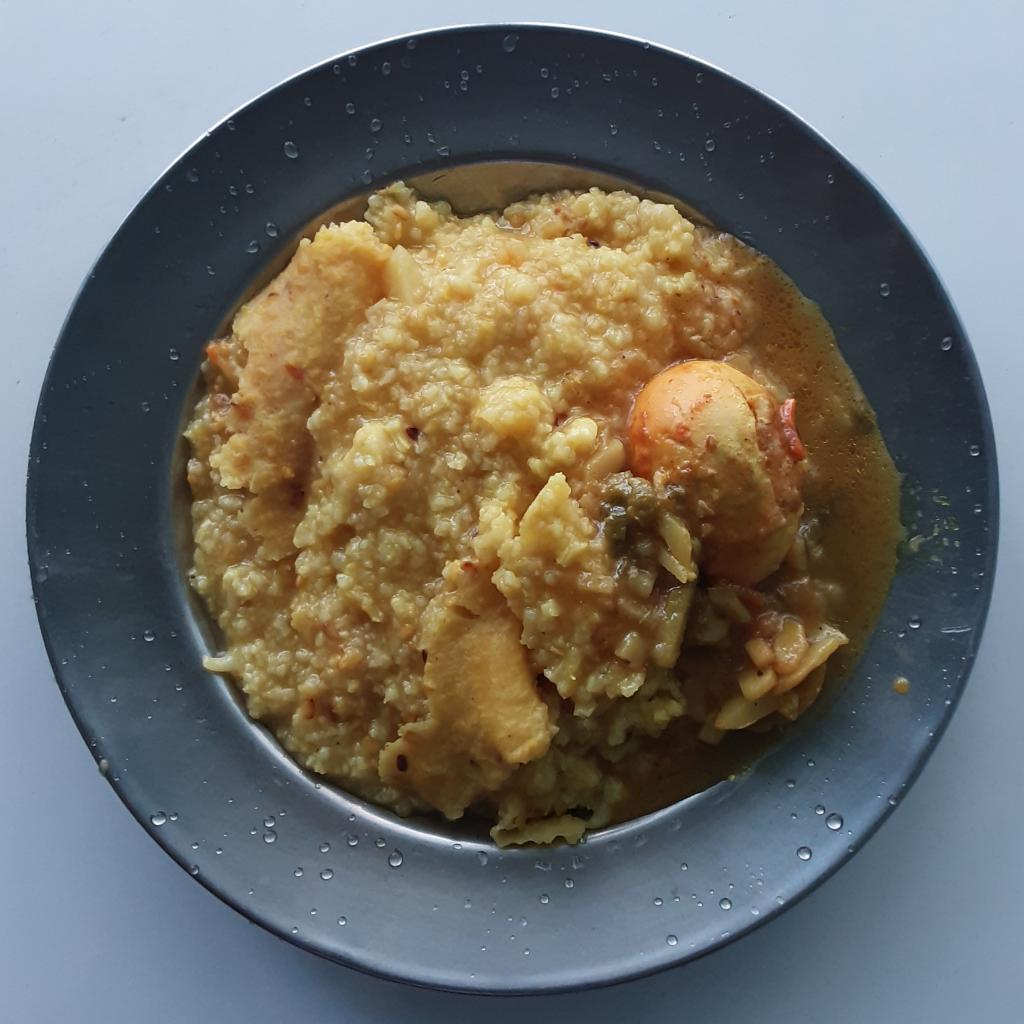egg-boiled: (628, 360, 806, 585)
khichuri: (187, 174, 848, 847)
